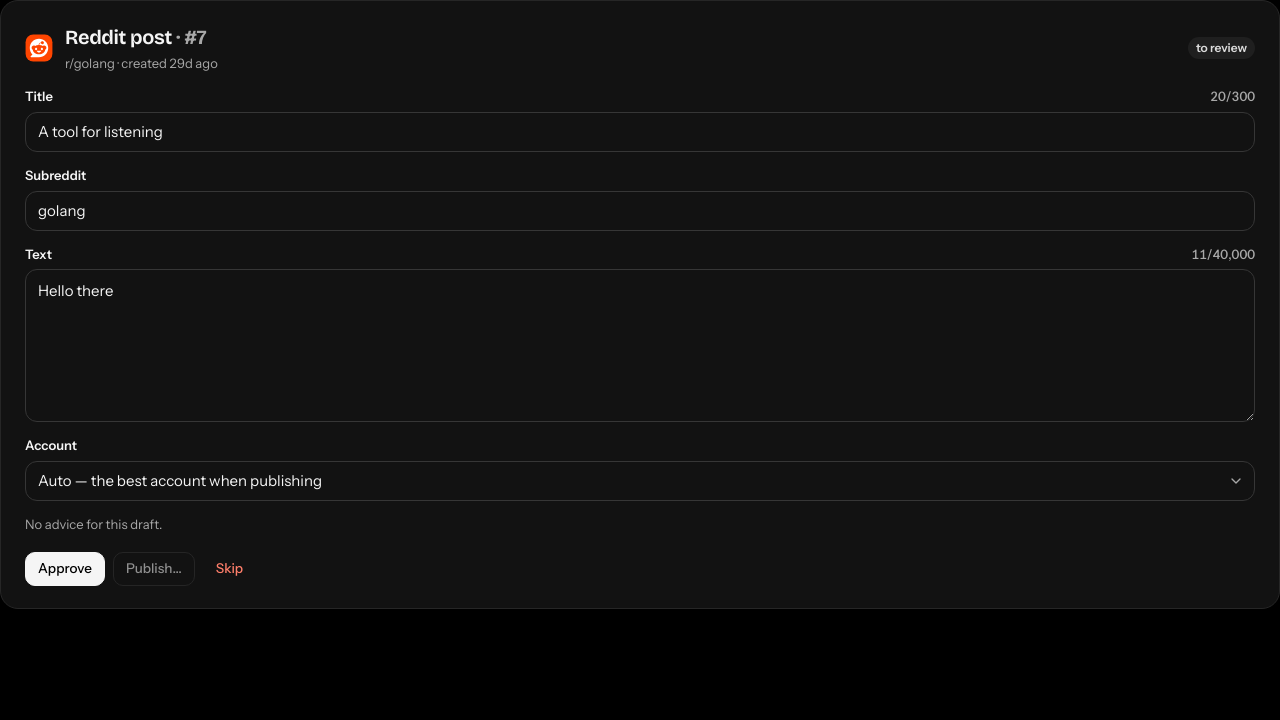
it: DraftsEditor › saves edits, and discards them
The width and height of the screenshot is (1280, 720).
Step 1. Type "!" into the field labelled "Title 20/300" → [640, 132], box [25,112,1255,152]
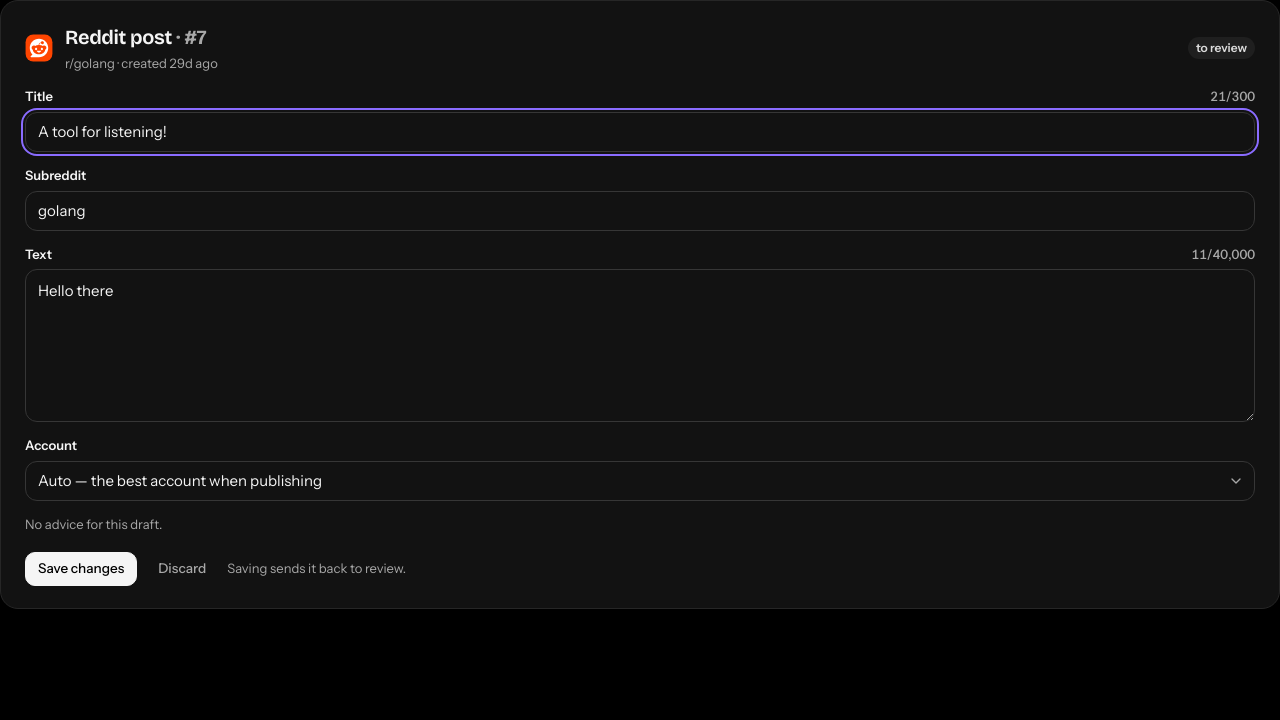
Step 2. Type "rust" into the field labelled "Subreddit" → [640, 210], box [25,190,1255,230]
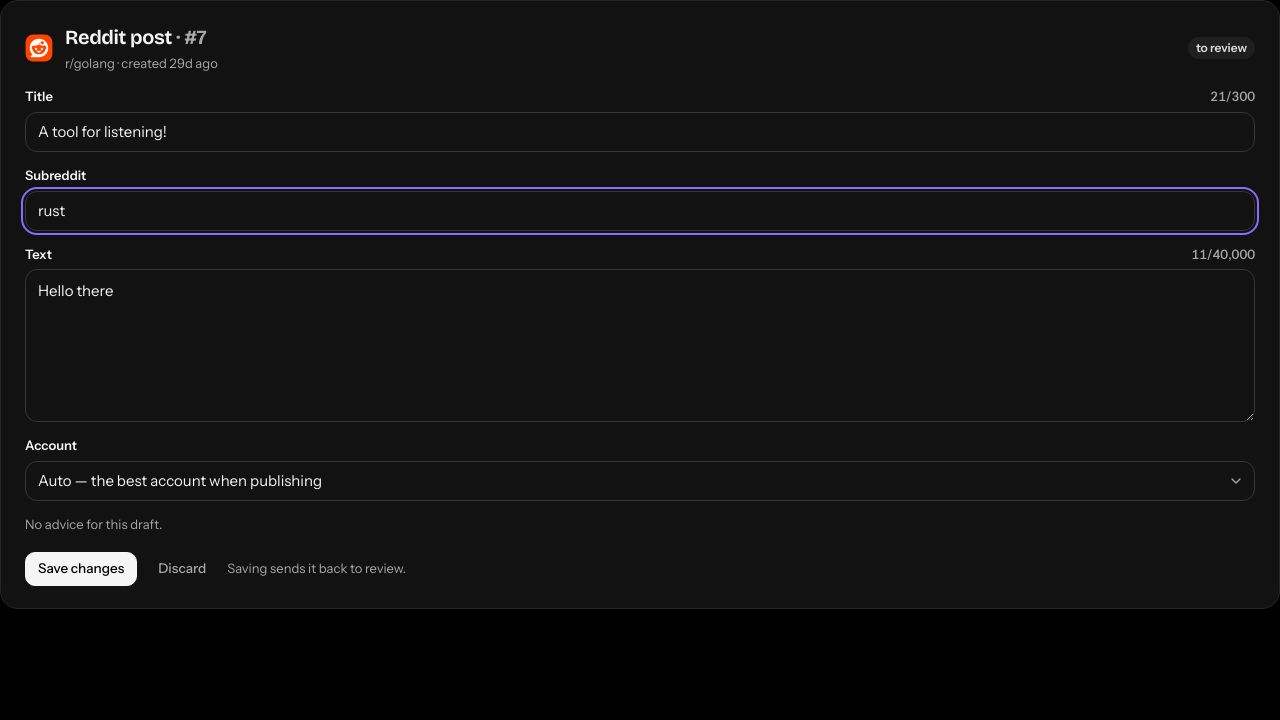
Step 3. Type " again" into the text box labelled "Text 11/40,000" → [640, 346], box [25,269,1255,422]
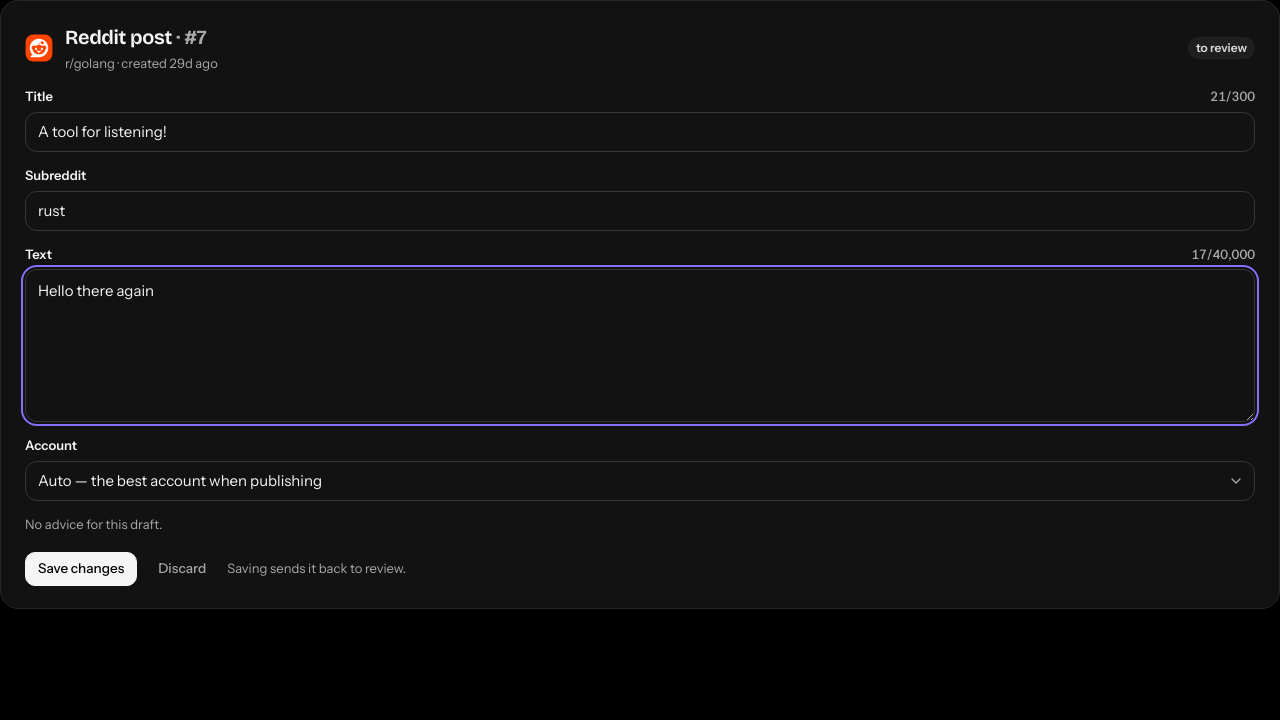
expect the text "Saving sends it back to review." is shown: met, box [227,559,406,578]
Step 4. Click the button "Save changes" → [81, 569], box [25,552,137,586]
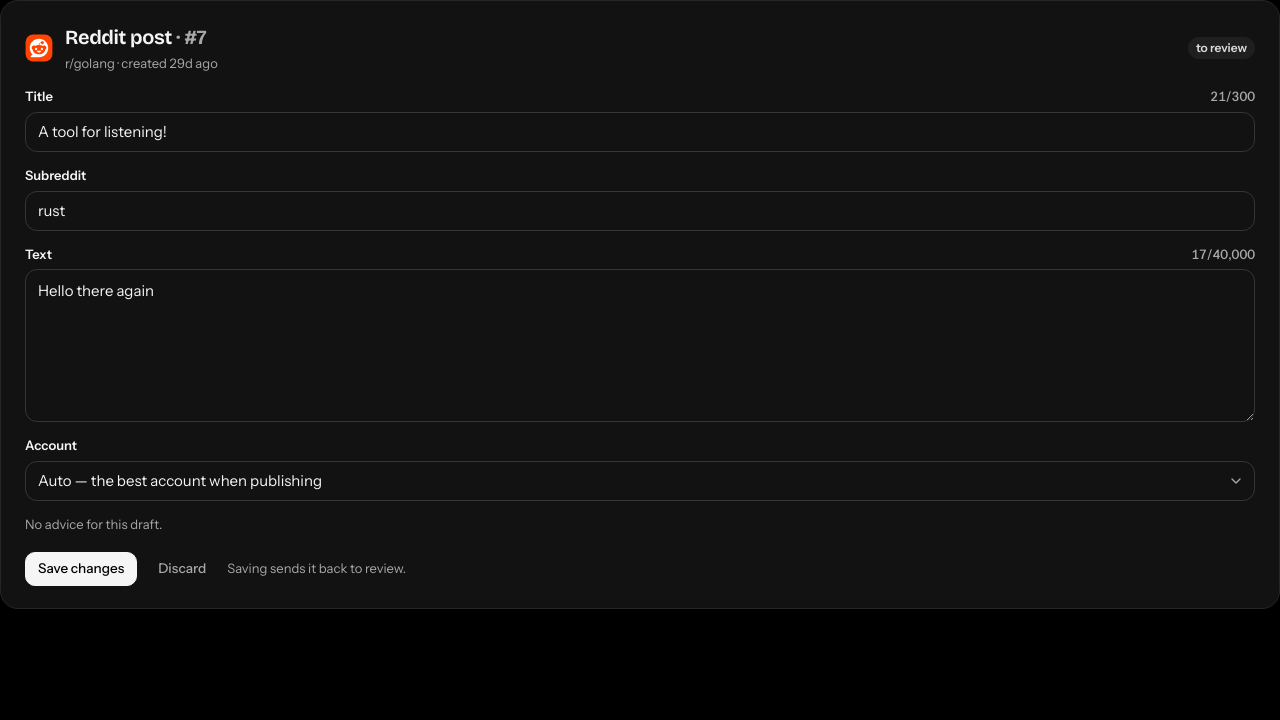
Step 5. Type "?" into the text box labelled "Text 17/40,000" → [640, 346], box [25,269,1255,422]
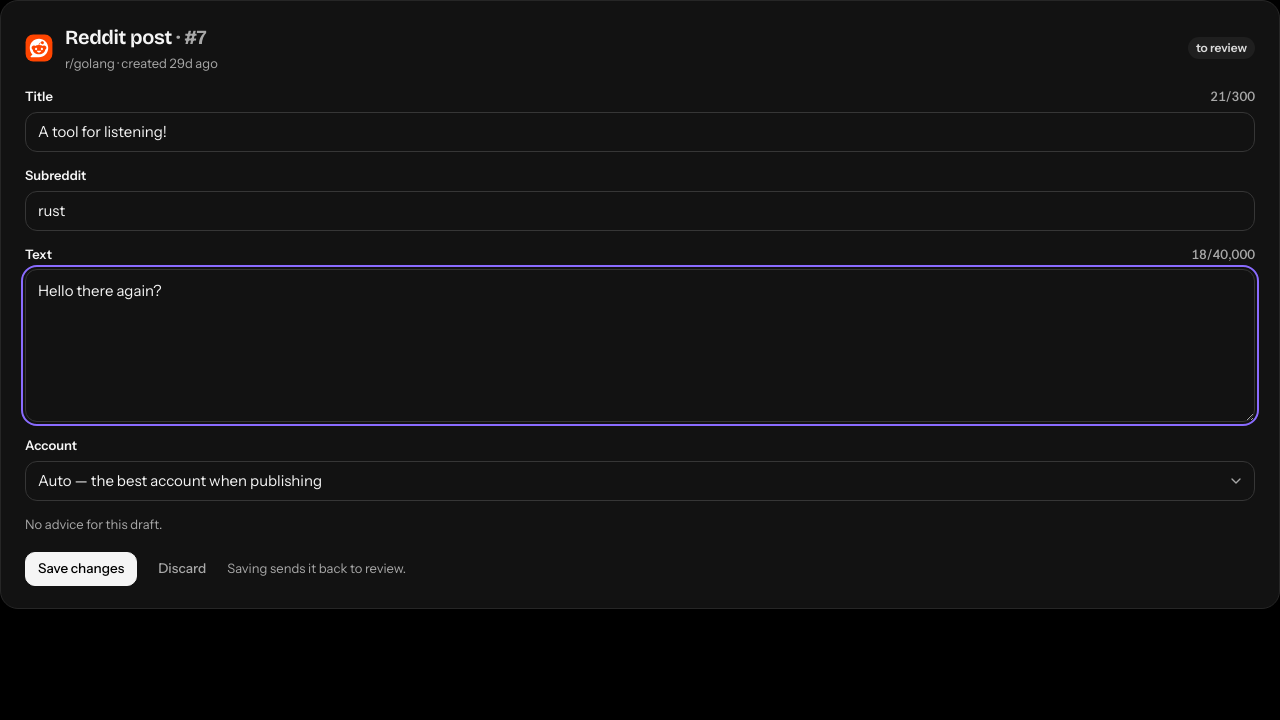
Step 6. Click the button "Discard" → [182, 569], box [145,552,219,586]
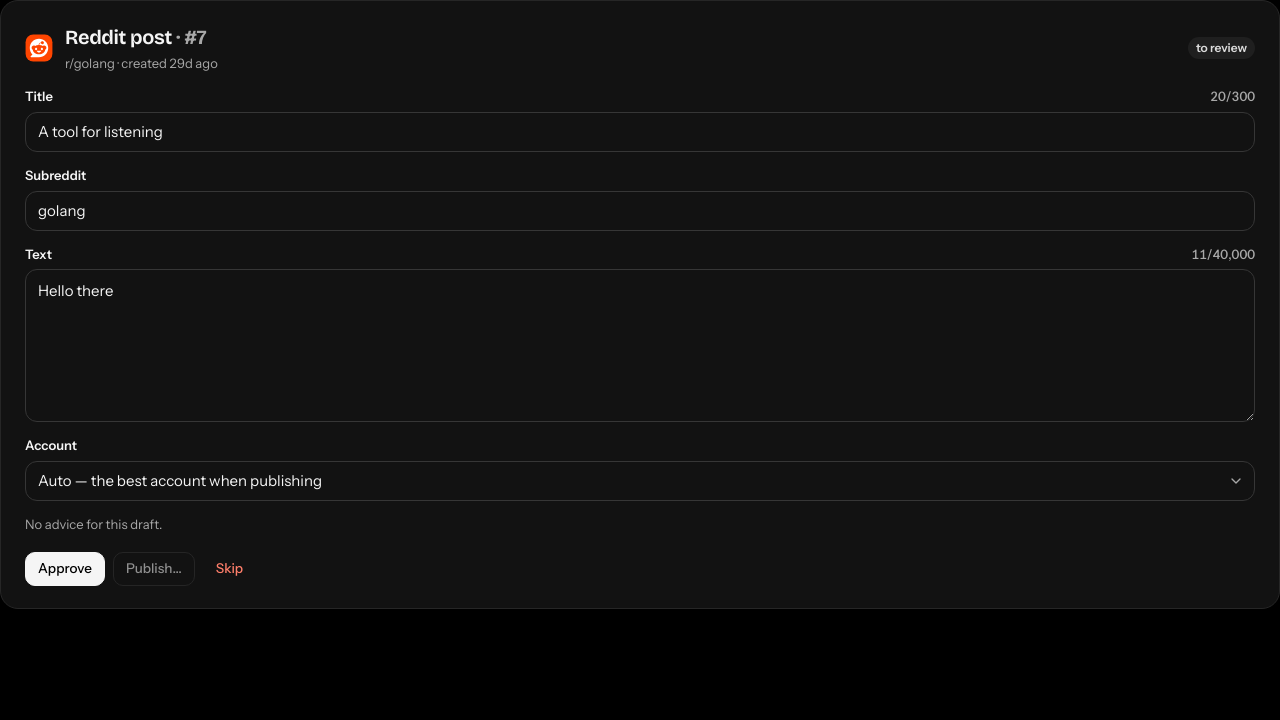
expect the text box labelled "Text 11/40,000" holds "Hello there": met, box [25,269,1255,422]
expect the button "Save changes" is gone: met
